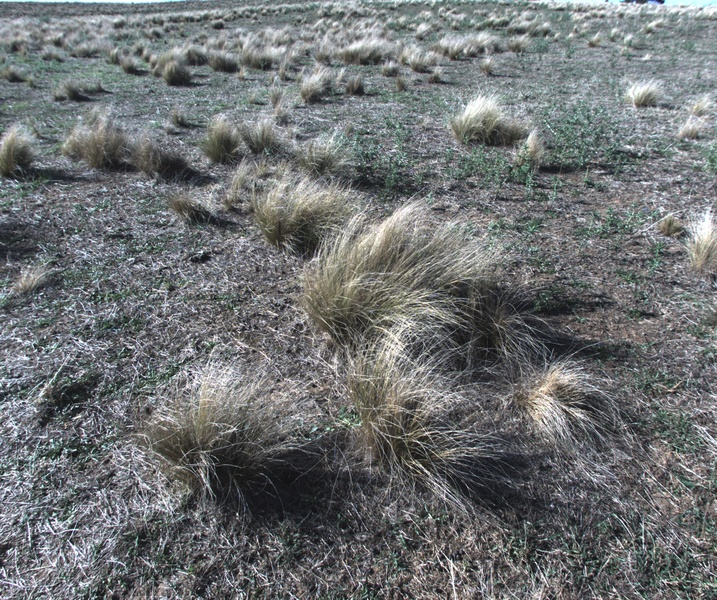st: (130, 357, 309, 507), (316, 205, 487, 353), (343, 355, 472, 501), (515, 360, 609, 457), (252, 178, 357, 254), (474, 299, 529, 362), (298, 130, 362, 184), (69, 117, 130, 173), (448, 95, 510, 145), (165, 186, 222, 228), (136, 138, 188, 184), (197, 111, 236, 170), (1, 124, 39, 181), (239, 124, 291, 164), (687, 207, 717, 275), (620, 75, 671, 114), (10, 261, 61, 298), (523, 121, 554, 163), (346, 39, 389, 68), (230, 162, 261, 202), (51, 78, 91, 103), (302, 72, 332, 105), (205, 51, 243, 76), (247, 44, 282, 68), (169, 42, 205, 65), (162, 62, 190, 89), (689, 93, 714, 119), (266, 79, 286, 111), (164, 107, 187, 134), (504, 34, 532, 54), (678, 117, 698, 144), (344, 74, 367, 96), (658, 209, 677, 234), (461, 37, 483, 58), (409, 53, 432, 73), (644, 16, 666, 36), (117, 52, 136, 75), (443, 38, 461, 60), (147, 49, 159, 81), (383, 56, 402, 76), (480, 57, 497, 78), (426, 66, 443, 86), (583, 29, 600, 47), (1, 69, 29, 79), (609, 27, 622, 45), (137, 43, 149, 61), (622, 33, 636, 47), (394, 74, 407, 89)
